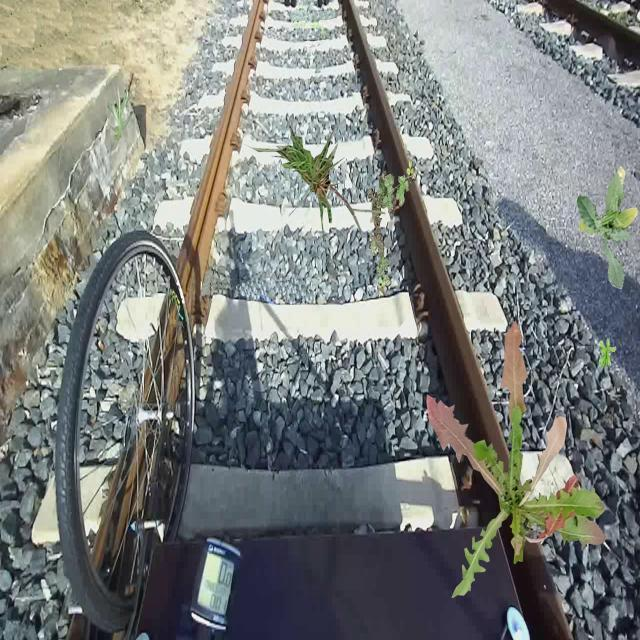Plant: (427, 320, 607, 598), (242, 125, 386, 245), (576, 165, 638, 290), (367, 160, 416, 298), (107, 85, 134, 142), (599, 338, 616, 370)
